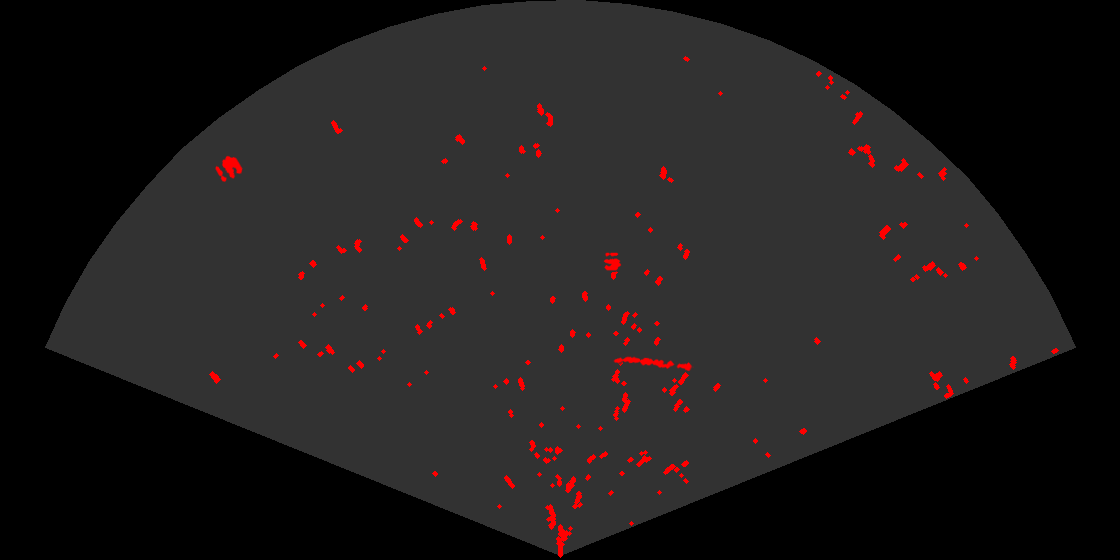ball: (214, 154, 244, 184), (602, 251, 623, 272)
chain: (612, 355, 694, 373)
